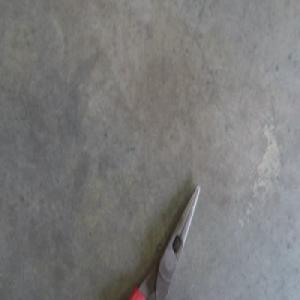Pliers: (130, 182, 199, 299)
